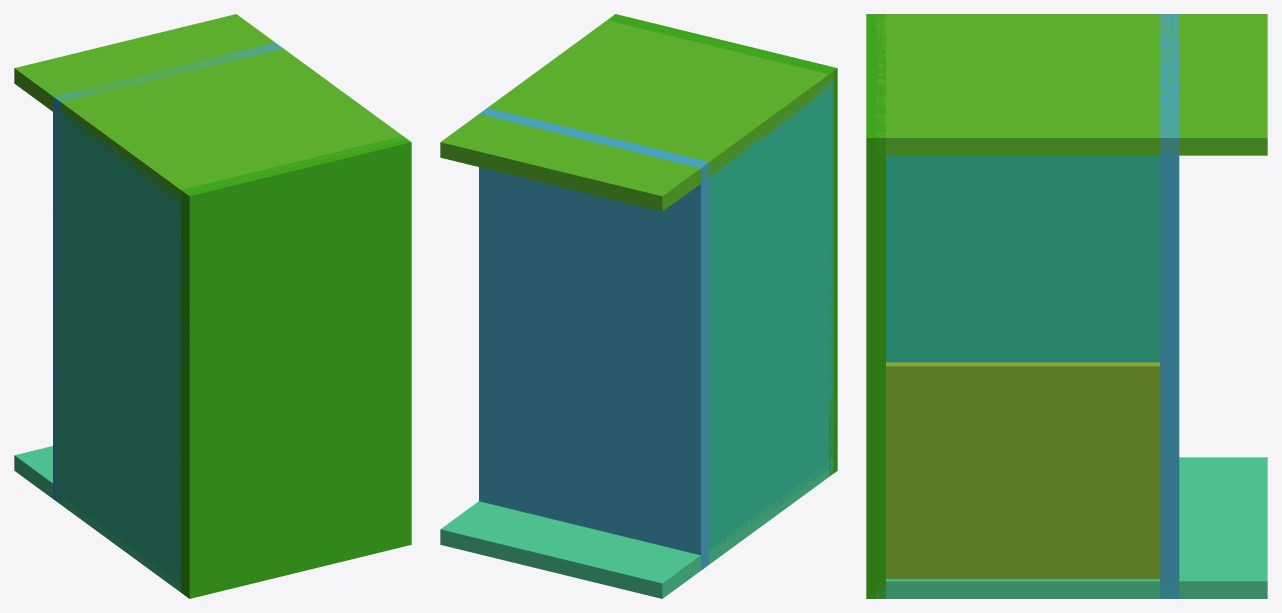
Rendered from cabinet_half_closed_tall_disjoint.obj.
3 views of the same model, side by side, from view 1: azimuth 30°, elevation 25°; view 2: azimuth 150°, elevation 25°; view 3: azimuth 270°, elevation 25° (orthographic). The views are drawn at different scales.
Visible parts, largest first — view 1: cube_2, cube_3, cube_4, cube_1, cube_5; view 2: cube_1, cube_3, cube_4, cube_5, cube_2; view 3: cube_6, cube_3, cube_4, cube_5, cube_2, cube_1.
Boxes of the visible parts, <box> form: cube_2: <box>181,136,411,598</box>; cube_3: <box>57,111,185,584</box>; cube_4: <box>14,14,406,207</box>; cube_1: <box>53,42,282,504</box>; cube_5: <box>14,446,185,592</box>; cube_1: <box>479,108,709,570</box>; cube_3: <box>709,79,833,554</box>; cube_4: <box>440,20,833,211</box>; cube_5: <box>440,459,833,598</box>; cube_2: <box>607,14,837,476</box>; cube_6: <box>886,362,1159,579</box>; cube_3: <box>886,155,1159,362</box>; cube_4: <box>876,14,1267,155</box>; cube_5: <box>876,457,1267,598</box>; cube_2: <box>866,14,885,598</box>; cube_1: <box>1160,14,1179,598</box>.
Bounding box in the file's own units: 0.6 × 1.04 × 0.82.
